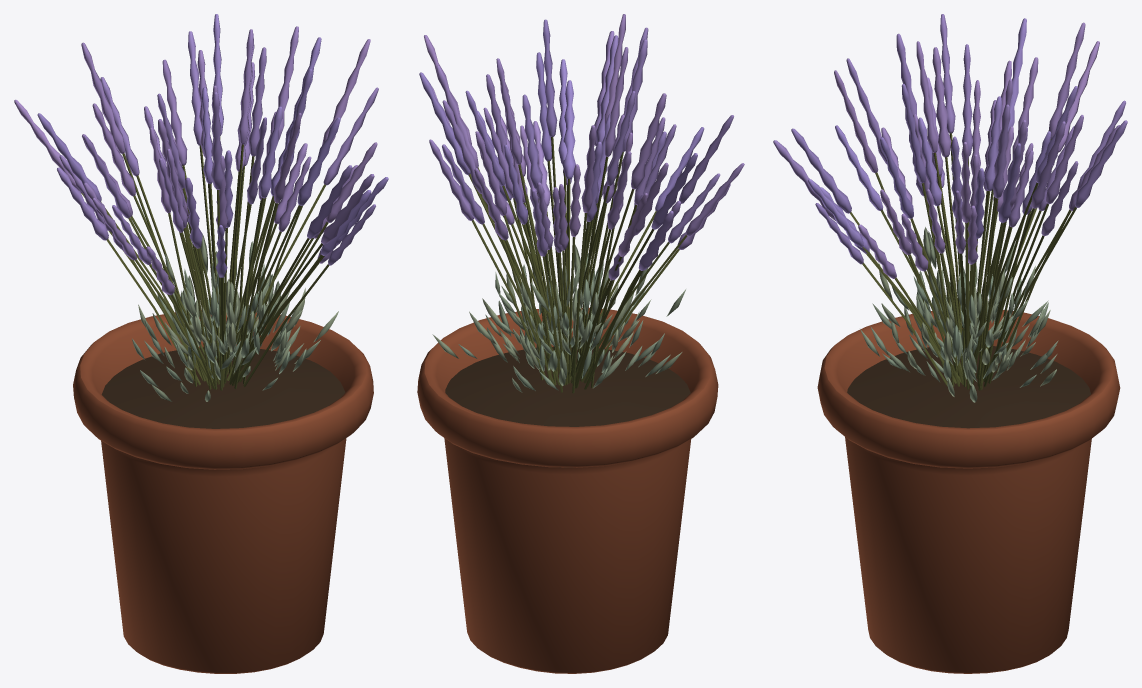
Rendered from pot_lavender.glb.
The picture shows the model from 3 angles, left to right: view 1: azimuth 30°, elevation 25°; view 2: azimuth 150°, elevation 25°; view 3: azimuth 270°, elevation 25°; orthographic projection.
Parts seen in each view (by area): view 1: Sammel Putz, Sammel Pflanze; view 2: Sammel Putz, Sammel Pflanze; view 3: Sammel Putz, Sammel Pflanze.
Part boxes in pixels (bbox=[...]): Sammel Putz: bbox=[73, 136, 373, 673]; Sammel Pflanze: bbox=[14, 14, 388, 401]; Sammel Putz: bbox=[417, 137, 718, 673]; Sammel Pflanze: bbox=[419, 14, 744, 392]; Sammel Putz: bbox=[817, 133, 1120, 673]; Sammel Pflanze: bbox=[773, 14, 1127, 402].
Size of the model in its own units: 0.5614 by 1.01 by 0.5608.
